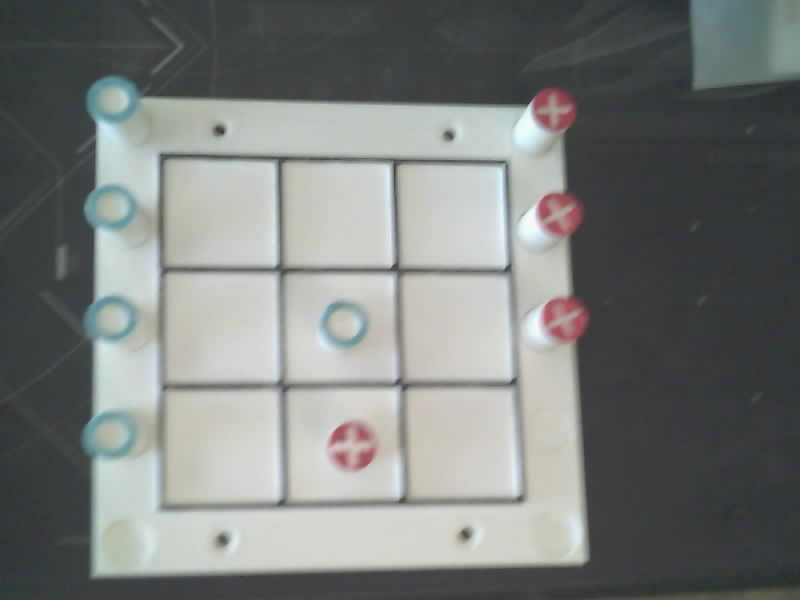blue circle: (81, 411, 136, 457), (86, 76, 138, 122), (84, 295, 137, 340), (84, 184, 136, 229), (320, 301, 367, 348)
board: (83, 78, 587, 575)
cells: (164, 389, 281, 503), (287, 387, 402, 502), (162, 272, 277, 383), (406, 387, 521, 498), (162, 158, 277, 266), (284, 273, 397, 382), (401, 273, 512, 381), (282, 161, 393, 266), (397, 163, 507, 268)
grid: (158, 154, 526, 509)
red cross: (327, 421, 376, 471), (542, 297, 588, 341), (536, 194, 583, 236), (531, 88, 576, 131)
